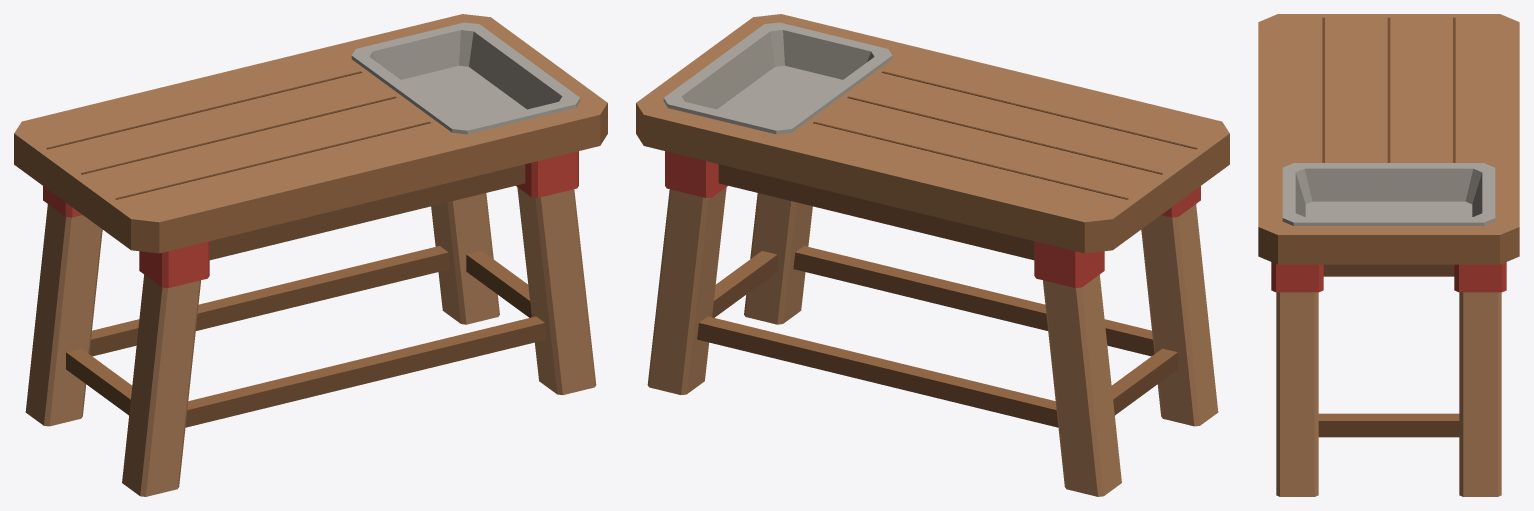
The model's file is FMS_Workshop_FUR_09.fbx.
3 views of the same model, side by side, from view 1: azimuth 30°, elevation 25°; view 2: azimuth 150°, elevation 25°; view 3: azimuth 270°, elevation 25° (orthographic). The views are drawn at different scales.
Parts seen in each view (by area): view 1: FMS_Workshop_FUR_09_Body; view 2: FMS_Workshop_FUR_09_Body; view 3: FMS_Workshop_FUR_09_Body.
Part boxes in pixels (x1=…): FMS_Workshop_FUR_09_Body: x1=14, y1=14, x2=607, y2=496; FMS_Workshop_FUR_09_Body: x1=636, y1=14, x2=1229, y2=496; FMS_Workshop_FUR_09_Body: x1=1258, y1=14, x2=1519, y2=496.
Bounding box in the file's own units: 1.6 × 0.912 × 0.8.
